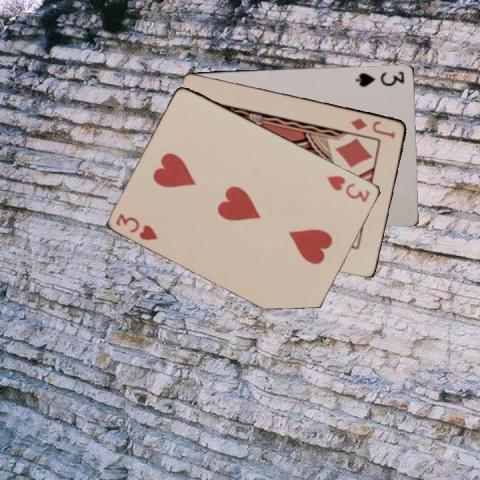3h: (324, 172, 372, 204), (113, 210, 160, 242)
3s: (354, 68, 406, 88)
Jd: (348, 115, 397, 140)
